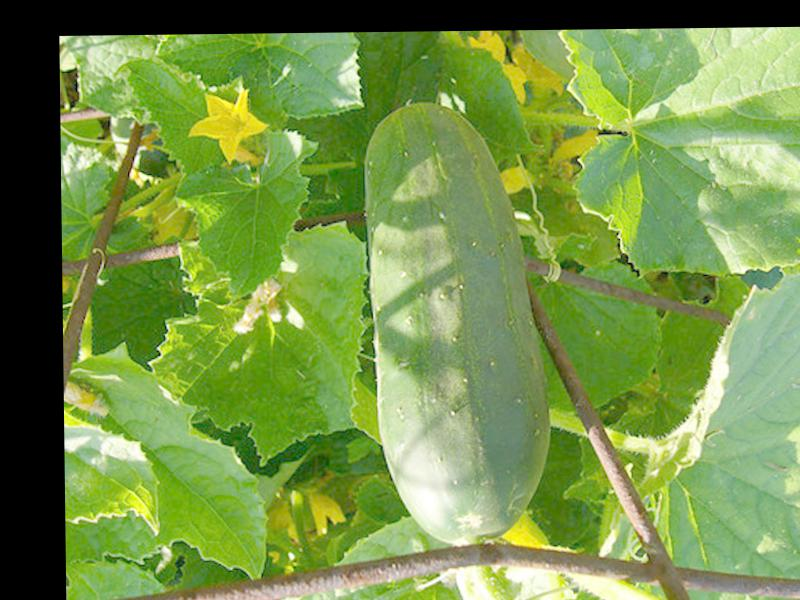Cucumber: (363, 99, 555, 545)
